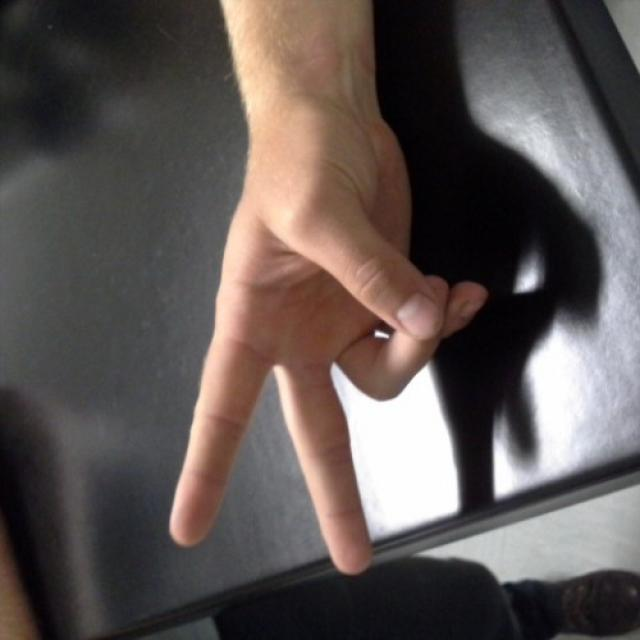scissors: (170, 150, 488, 574)
